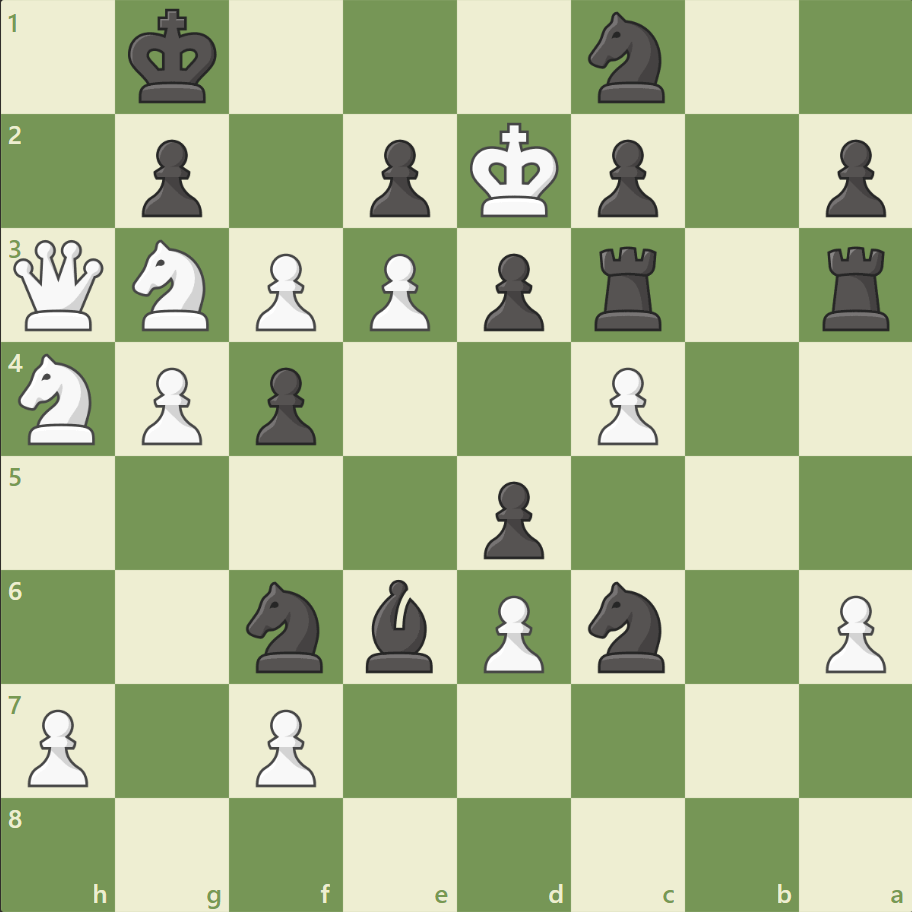K: (465, 117, 565, 225)
N: (124, 234, 222, 337), (11, 348, 108, 450)
P: (247, 700, 322, 791), (20, 700, 95, 791), (474, 586, 549, 677), (133, 359, 208, 450), (247, 246, 322, 337), (815, 586, 889, 677), (588, 359, 662, 450), (361, 246, 435, 337)
Q: (10, 236, 109, 335)
b: (358, 574, 442, 676)
k: (124, 4, 224, 112)
n: (579, 7, 676, 110), (579, 575, 676, 677), (238, 575, 335, 677)
p: (474, 473, 549, 564), (247, 359, 322, 450), (474, 246, 549, 337), (133, 132, 208, 223), (815, 132, 889, 223), (588, 132, 662, 223), (361, 132, 435, 223)
r: (814, 239, 897, 336), (587, 239, 670, 336)
